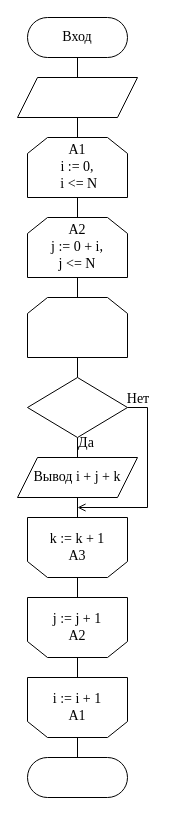
This 176x815 diagram has some shape labels left out. Each missing label, with the centre of its shape:
"A3 k := 0 + i + j, k <= N" belongs at (77,327).
"i + j + k = N" belongs at (77,407).
"Ввод N" belongs at (77,97).
"Выход" belongs at (77,777).
